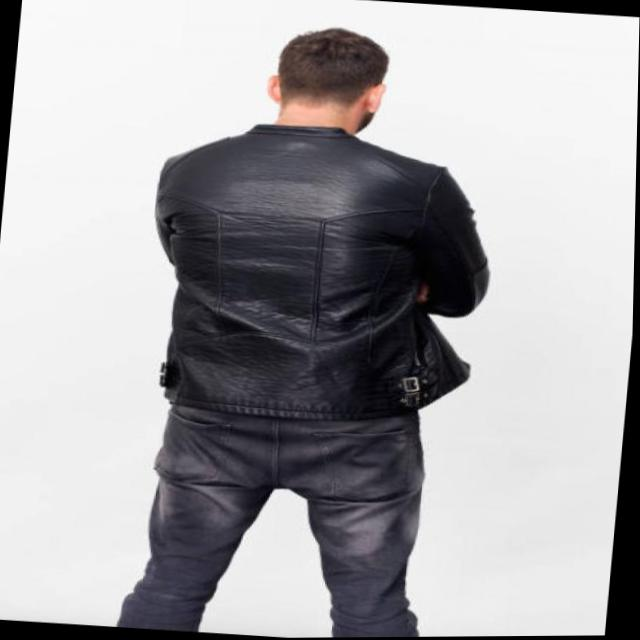no helmet: (240, 13, 402, 147)
